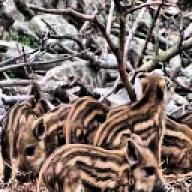boar: (36, 132, 172, 192)
